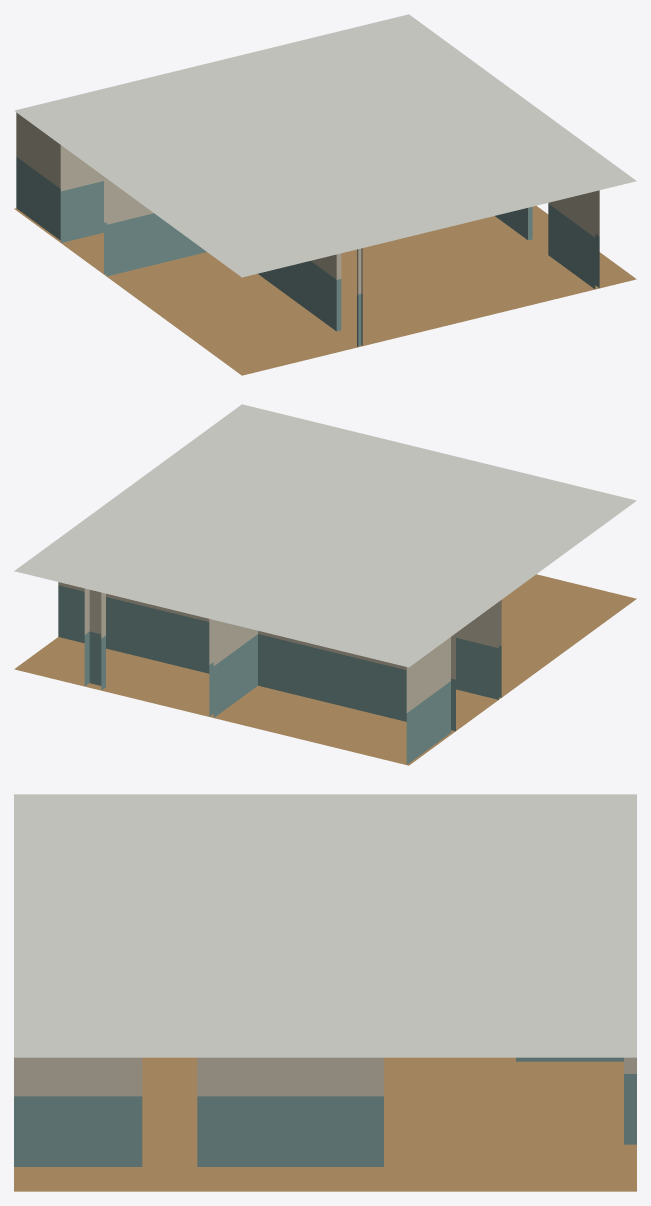
File: chunk_1_2.glb
3 views of the same model, one above another, from view 1: azimuth 30°, elevation 25°; view 2: azimuth 150°, elevation 25°; view 3: azimuth 270°, elevation 25° (orthographic). The views are drawn at different scales.
Parts seen in each view (by area): view 1: chunk_1_2; view 2: chunk_1_2; view 3: chunk_1_2.
Boxes of the visible parts, x1,y1,x2,y2 form: chunk_1_2: [14, 14, 636, 375]; chunk_1_2: [14, 404, 636, 765]; chunk_1_2: [14, 794, 636, 1191].
Size of the model in its own units: 12 by 2.85 by 12.
